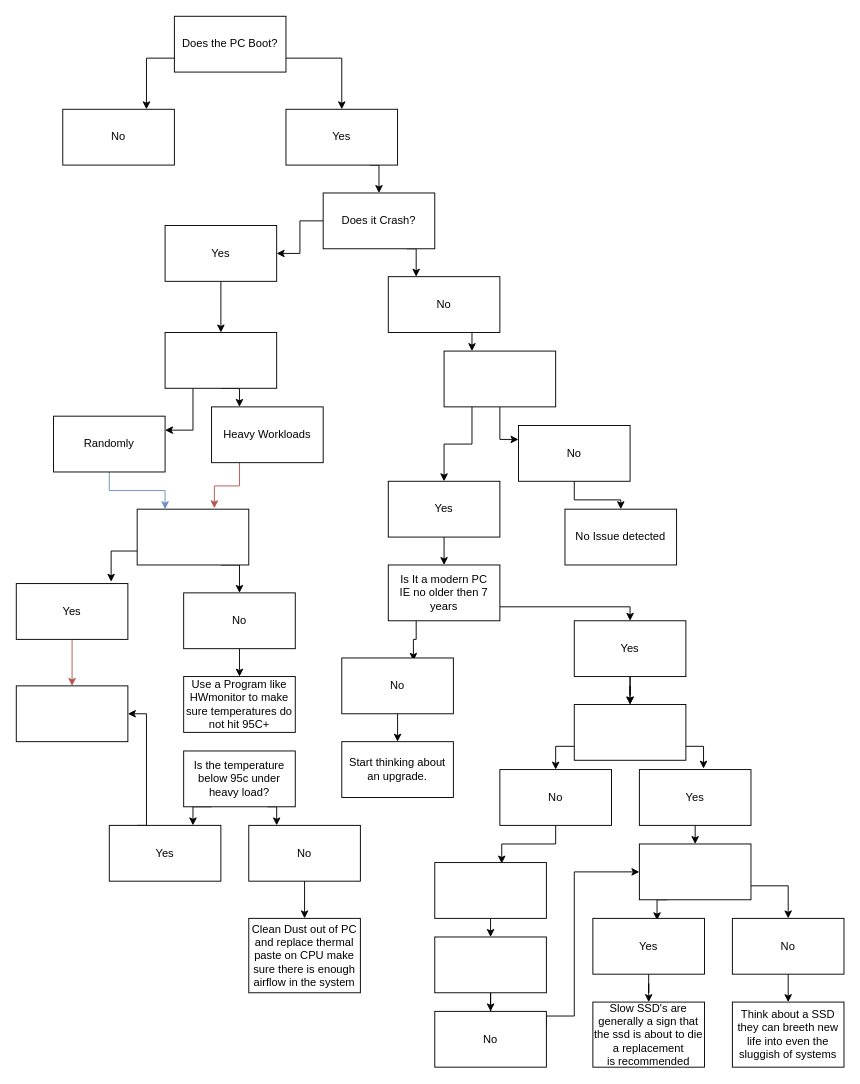
The diagram is 860 pixels wide and 1084 high, and some of its shapes have lost their labels. Each missing label, with the box of its shape:
Are you sure tempuratures are fine?: (136, 508, 249, 565)
Are you sure your power supply has enough wattage for your system: (15, 685, 128, 742)
Did this fix the problem?: (434, 936, 546, 993)
Does it Crash Randomly or During Heavy Workloads: (164, 332, 277, 388)
Have you checked it for viruses?: (573, 704, 686, 760)
Is It slow?: (443, 350, 556, 407)
Is your primary drive an SSD?: (638, 843, 751, 900)
Please do so with programs like malwarebytes or avast: (434, 862, 546, 918)
